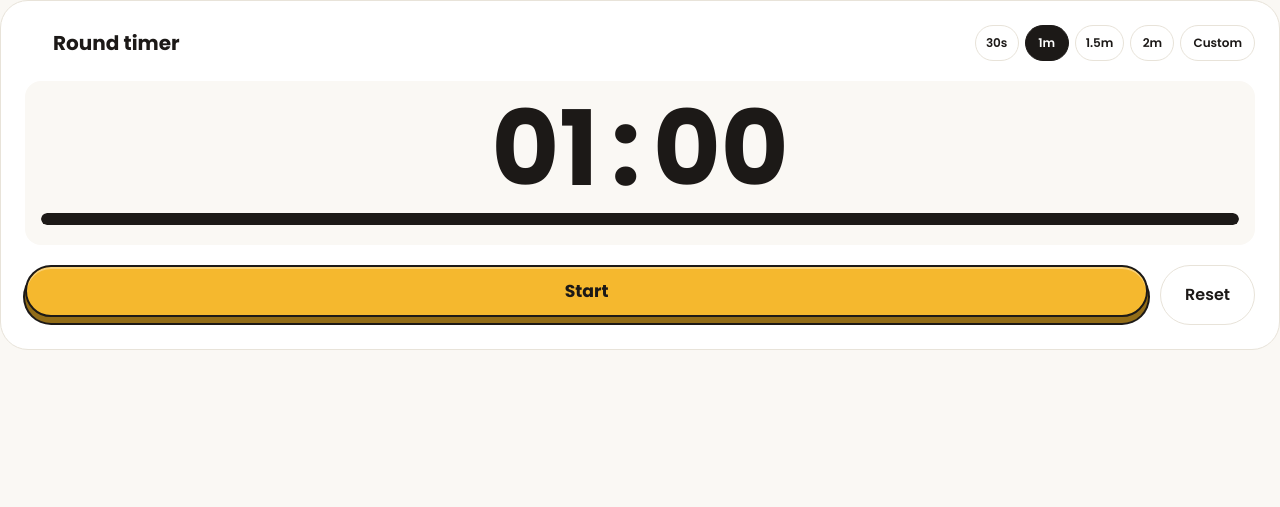
Timer › rejects custom duration 100 minutes and 0 seconds
Click the button "Custom" at (1218, 43), box [1180,25,1255,61]
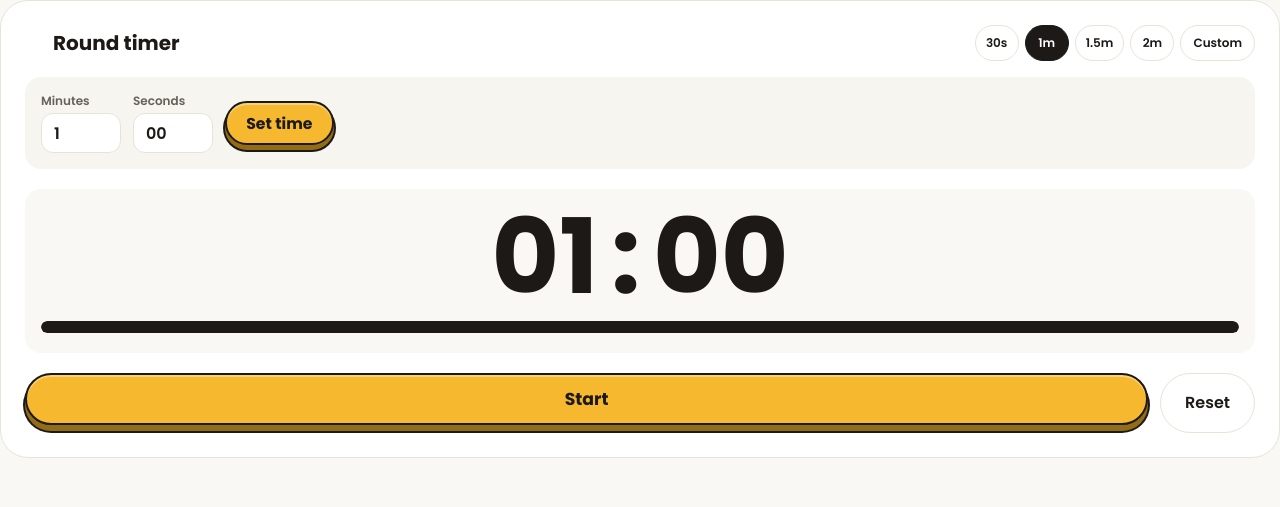
Replace the text in the number field labelled "Minutes" with "100" at (81, 133), box [41,113,121,153]
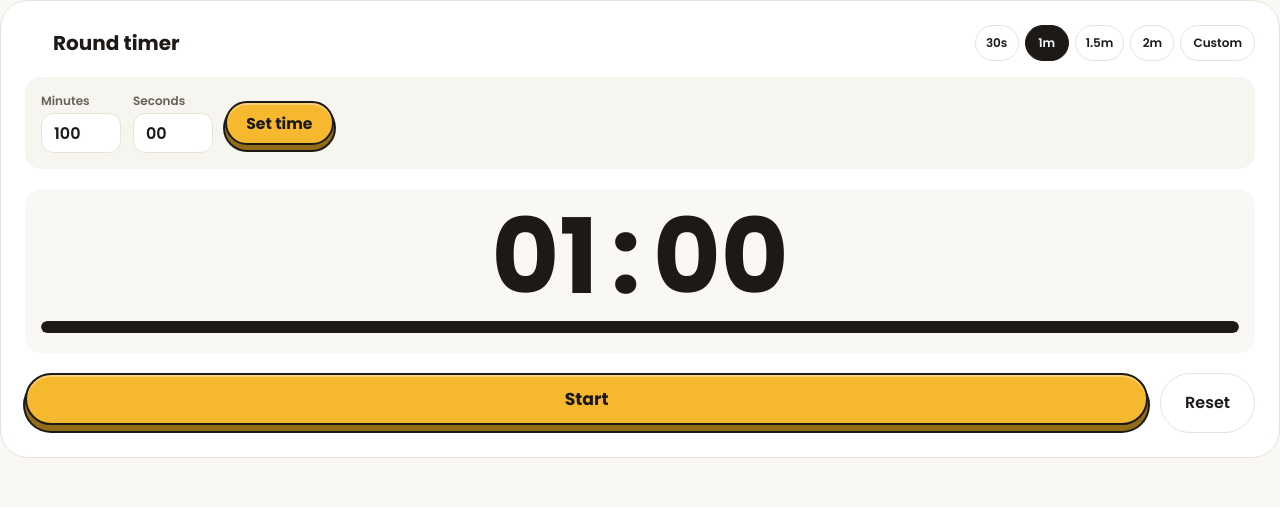
Replace the text in the number field labelled "Seconds" with "0" at (173, 133), box [133,113,213,153]
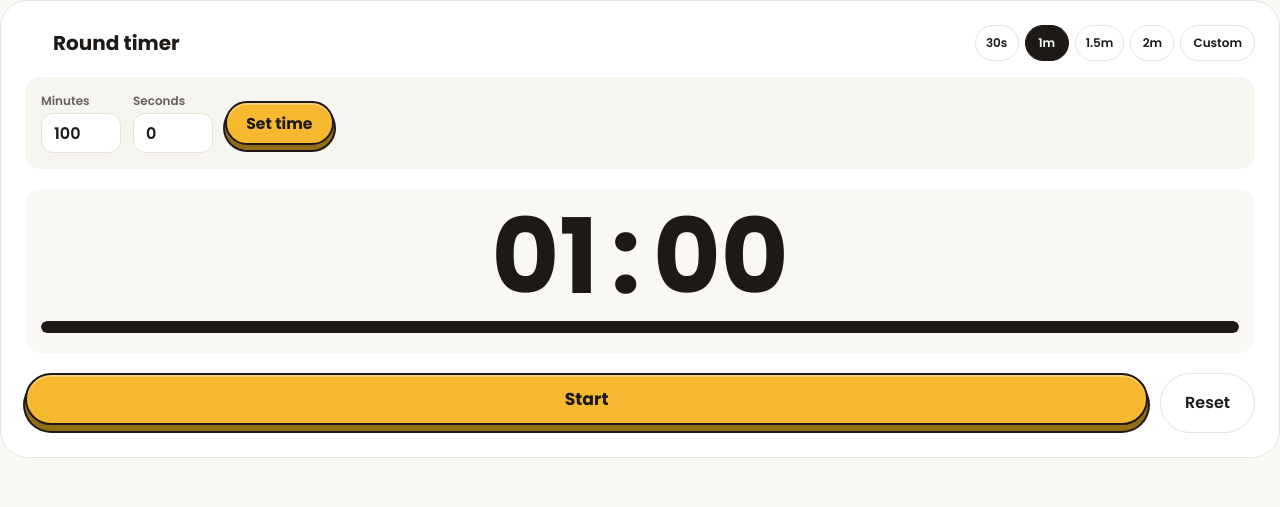
Submit the form "Set time", box [25,77,1255,169]
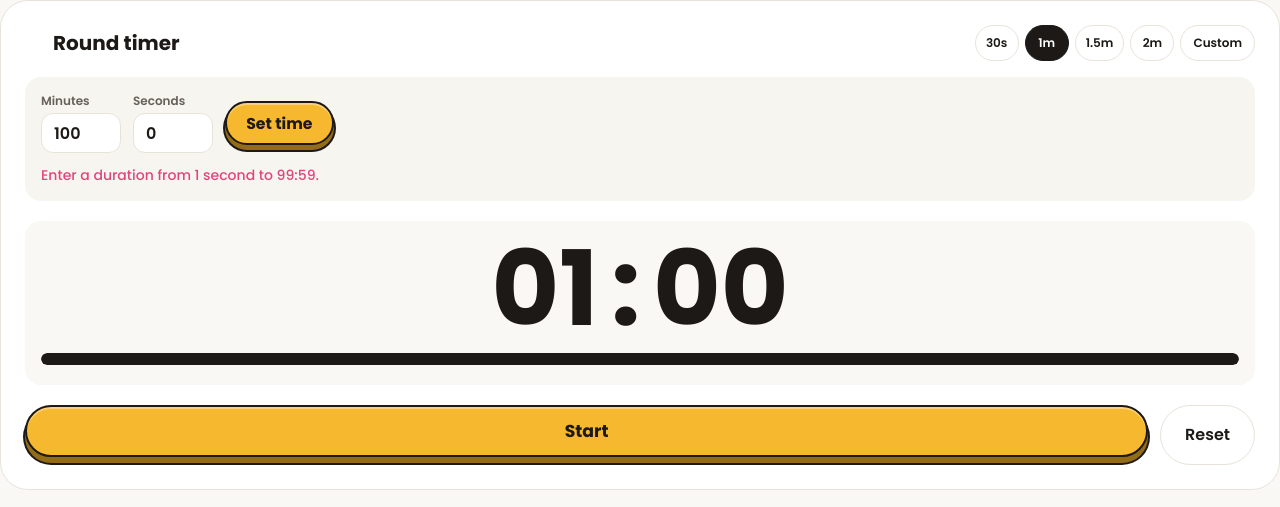
Check: the message reads "Enter a duration from 1 second to 99:59.", box [41,165,319,185]
